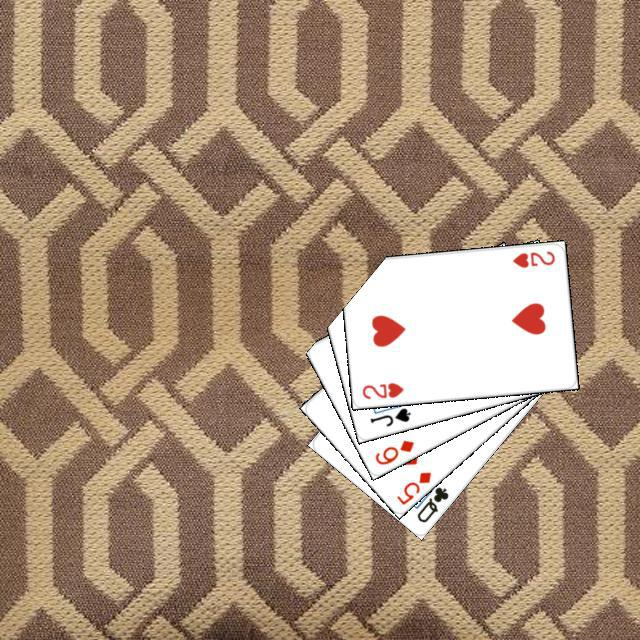2h: (357, 377, 405, 401), (508, 246, 557, 269)
5d: (391, 467, 433, 506)
6d: (370, 435, 416, 467)
Js: (365, 403, 412, 428)
Qc: (409, 474, 450, 524)
